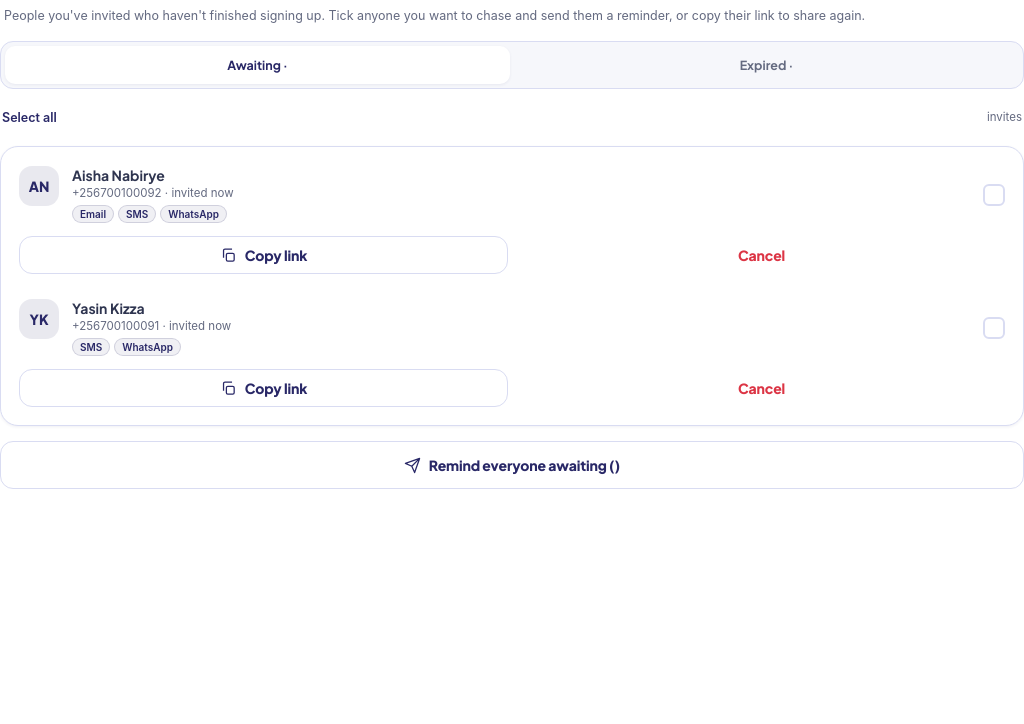
<PendingKycMobile /> › blocks the send when every channel is unticked
Click the checkbox labelled "Aisha Nabirye". click: (39, 186)
box: [19, 153, 1005, 236]
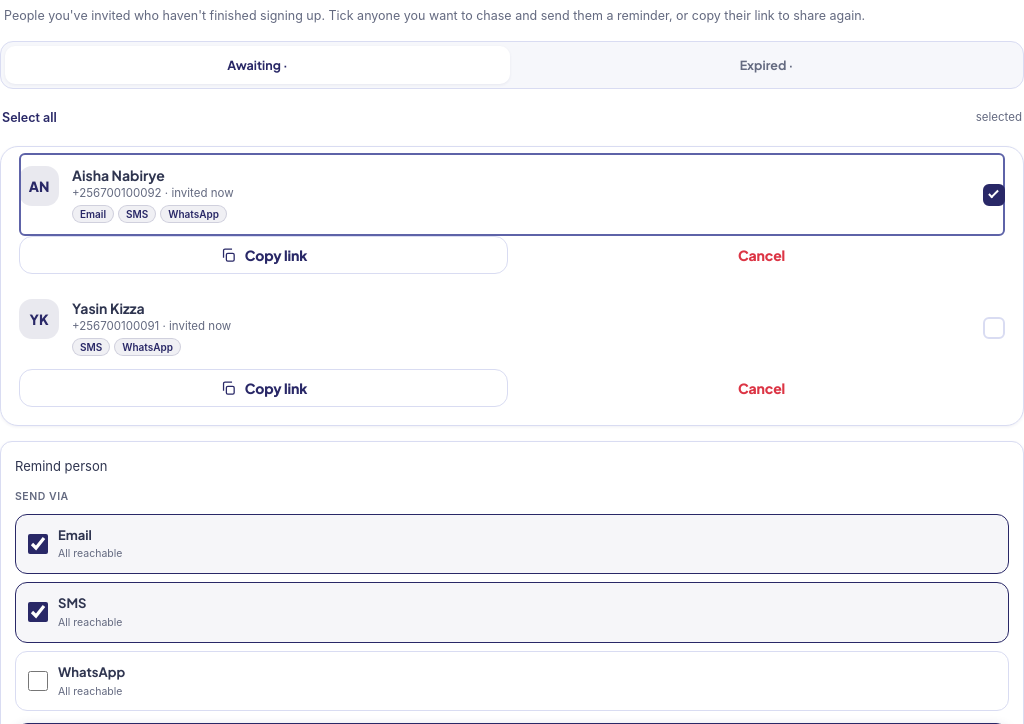
Click the checkbox named "Send via Email". click: (38, 544)
box: [28, 534, 48, 554]
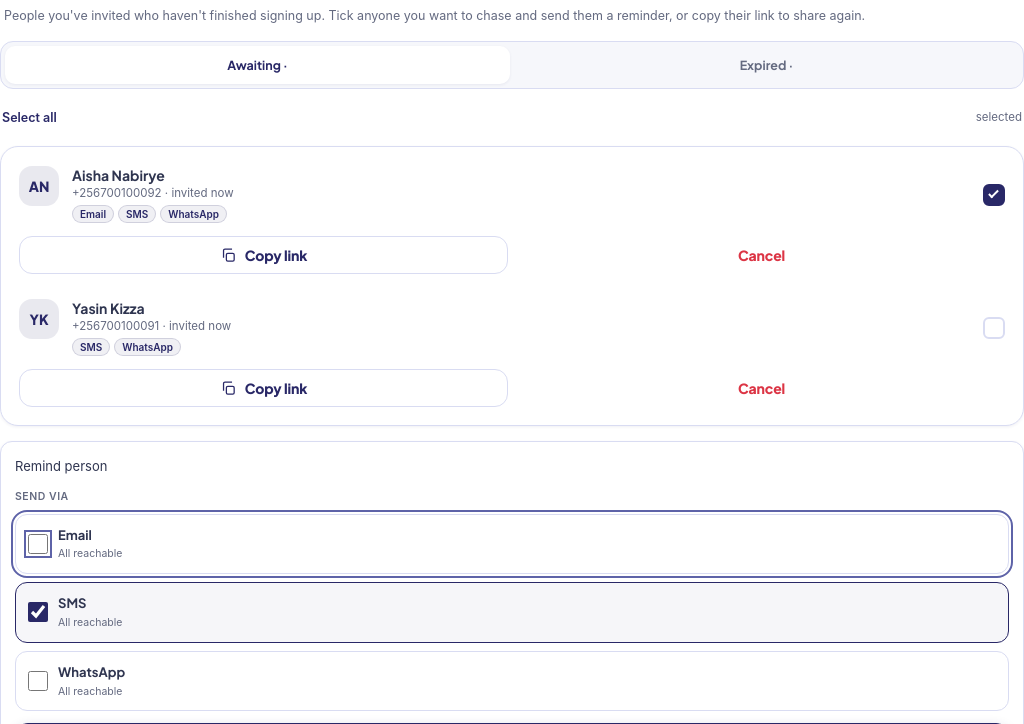
Click the checkbox named "Send via SMS". click: (38, 612)
box: [28, 602, 48, 622]
(page scrolled)
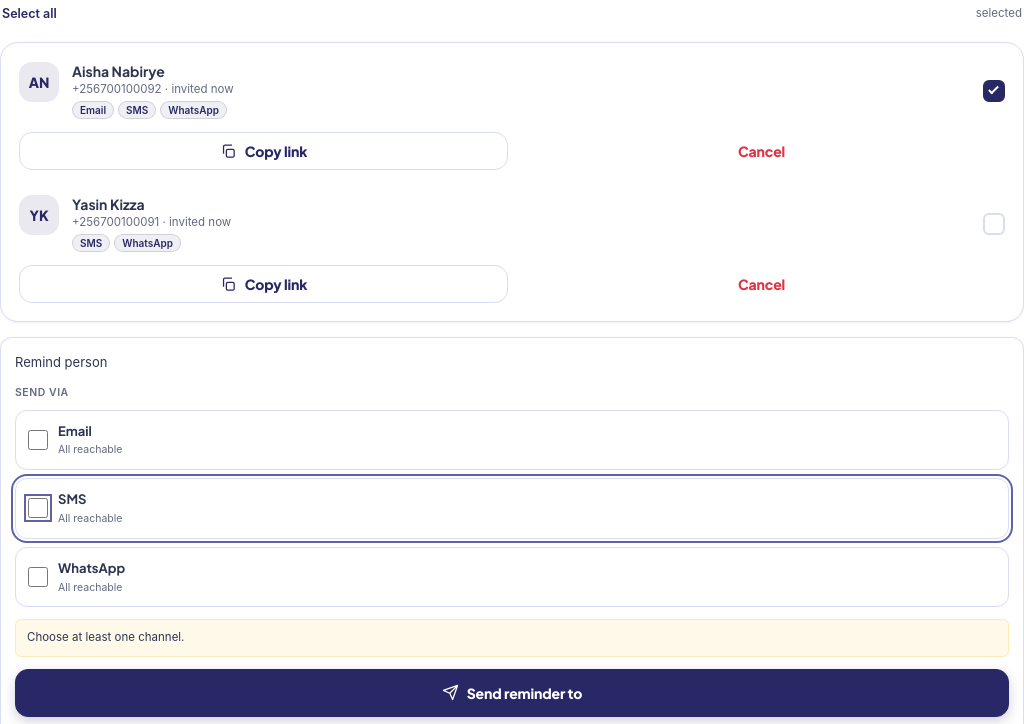
Now the text "Choose at least one channel." is shown, box [15, 619, 1009, 657]
Now the button "Send reminder to" is disabled, box [15, 669, 1009, 717]
